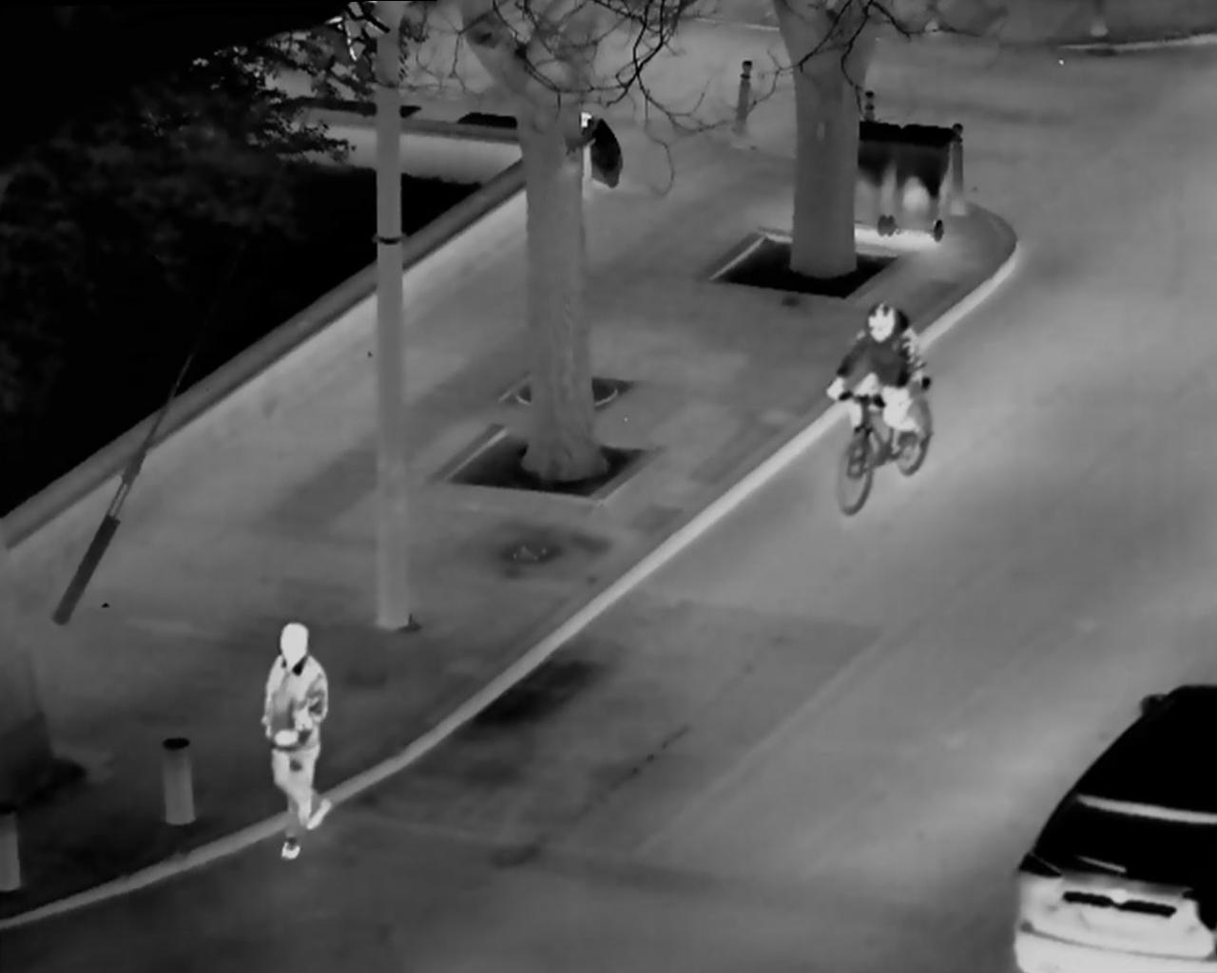person: (246, 610, 345, 860), (822, 301, 936, 509)
